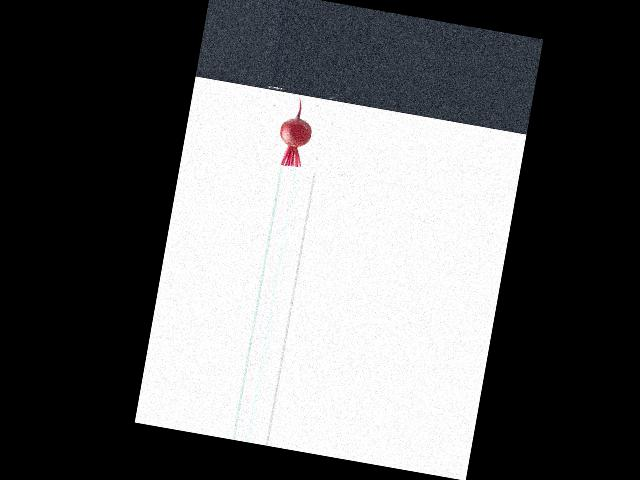beet: (274, 94, 317, 169)
